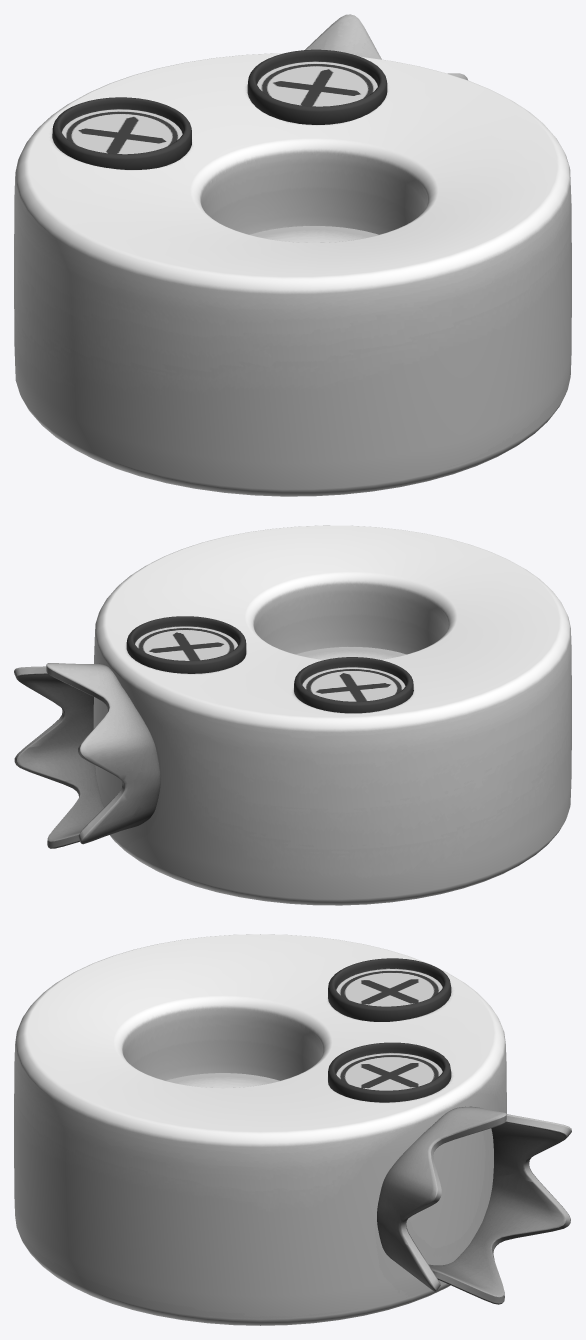
File: Pin_blue_0.fbx
3 views of the same model, one above another, from view 1: azimuth 30°, elevation 25°; view 2: azimuth 150°, elevation 25°; view 3: azimuth 270°, elevation 25° (orthographic). The views are drawn at different scales.
Parts seen in each view (by area): view 1: blue1, eye, vuongmien; view 2: blue1, vuongmien, eye; view 3: blue1, vuongmien, eye.
Part boxes in pixels (left/top/right/bottom): blue1: left=14, top=53, right=571, bottom=496; eye: left=52, top=49, right=387, bottom=169; vuongmien: left=305, top=14, right=467, bottom=80; blue1: left=93, top=525, right=571, bottom=905; vuongmien: left=14, top=663, right=160, bottom=848; eye: left=126, top=616, right=413, bottom=713; blue1: left=14, top=934, right=506, bottom=1325; vuongmien: left=377, top=1106, right=571, bottom=1304; eye: left=328, top=958, right=451, bottom=1102.
Size of the model in its own units: 0.5544 by 0.2367 by 0.5888.
4 materials, 4 textured.
